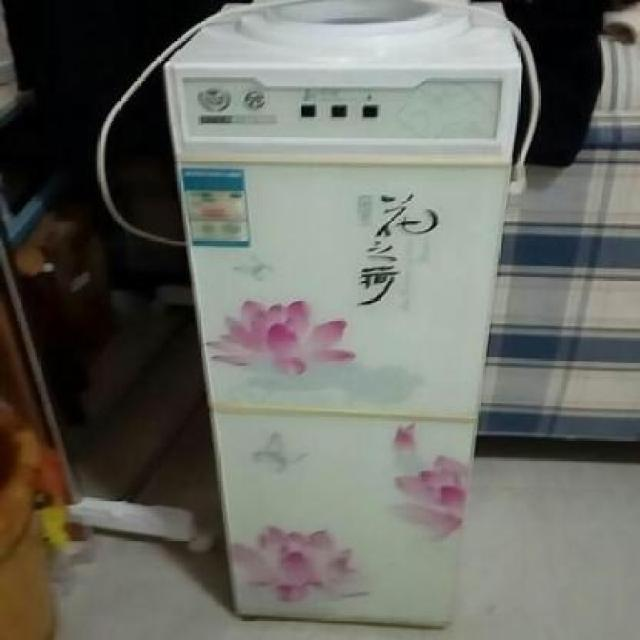cooler: (157, 0, 523, 632)
